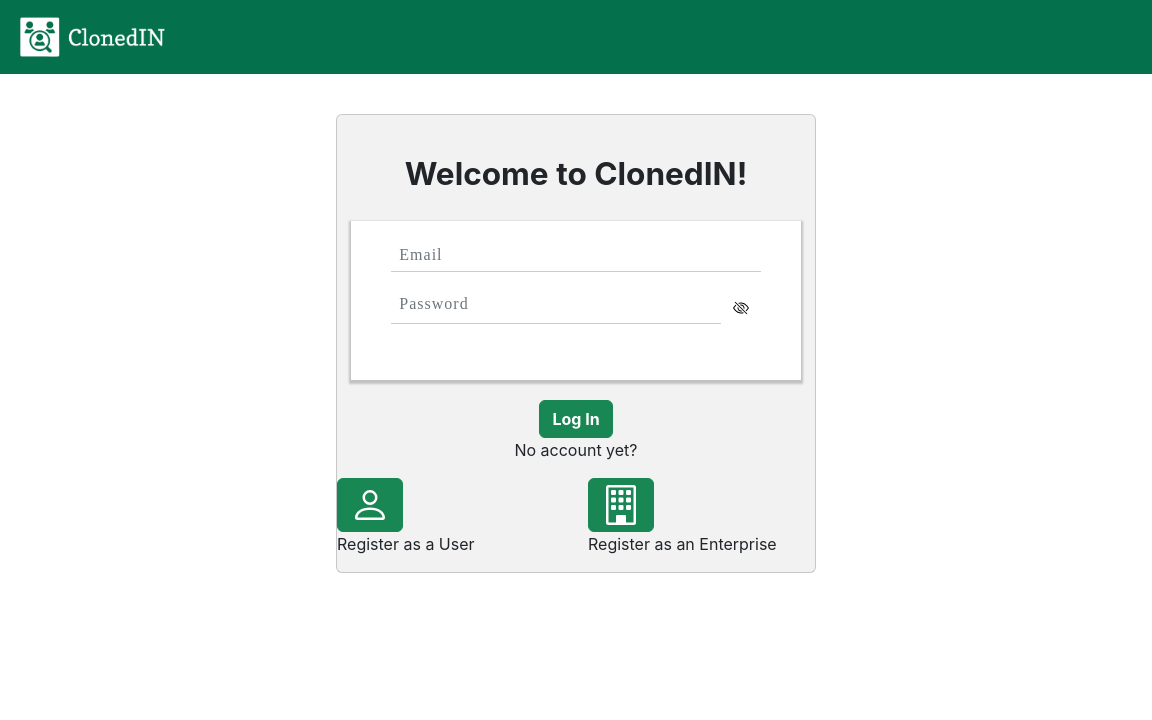
it: Test Login › Test login fails with empty credentials
Click the button with test id "login-button" at coordinates (576, 419), box x1=539 y1=400 x2=613 y2=438
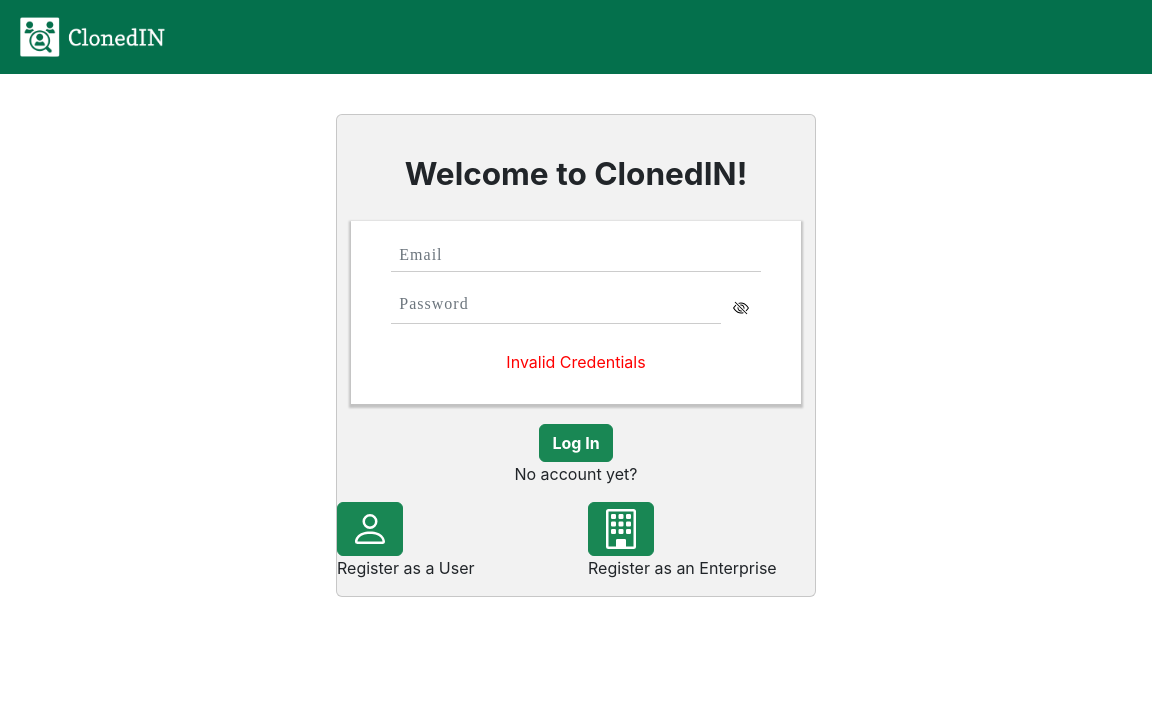
expect the text "Invalid Credentials" is shown: met, box x1=506 y1=352 x2=646 y2=372
